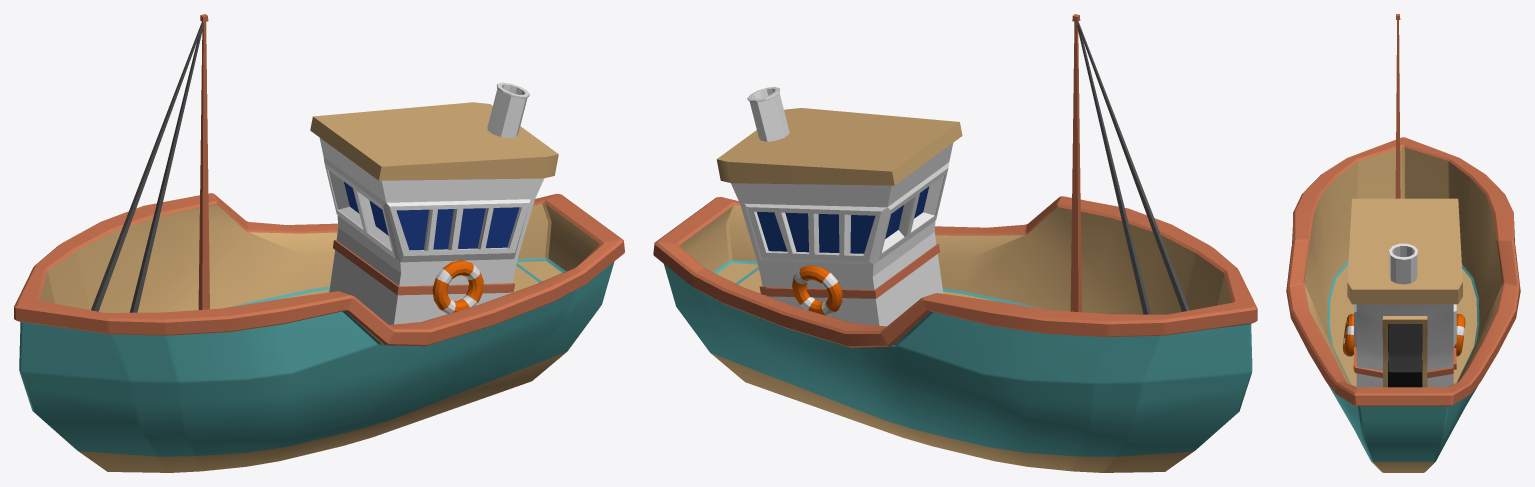
File: blue_boat.fbx
3 views of the same model, side by side, from view 1: azimuth 30°, elevation 25°; view 2: azimuth 150°, elevation 25°; view 3: azimuth 270°, elevation 25° (orthographic). The views are drawn at different scales.
Parts seen in each view (by area): view 1: pasted__pCube5; view 2: pasted__pCube5; view 3: pasted__pCube5.
Boxes of the visible parts, <box> form: pasted__pCube5: <box>14,14,624,472</box>; pasted__pCube5: <box>653,14,1257,472</box>; pasted__pCube5: <box>1286,14,1520,472</box>.
Bounding box in the file's own units: 4.58 × 3.29 × 2.07.
